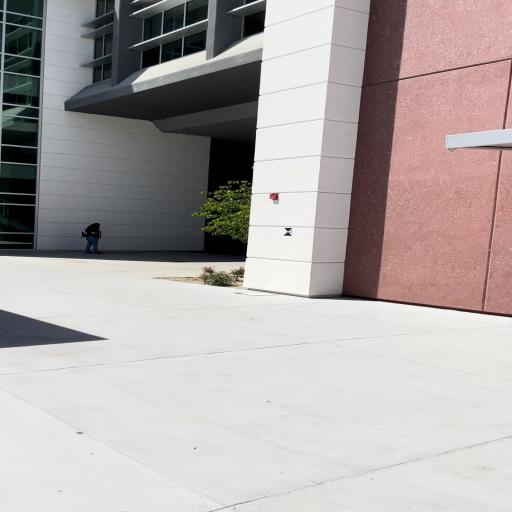target2: (282, 228, 294, 236)
